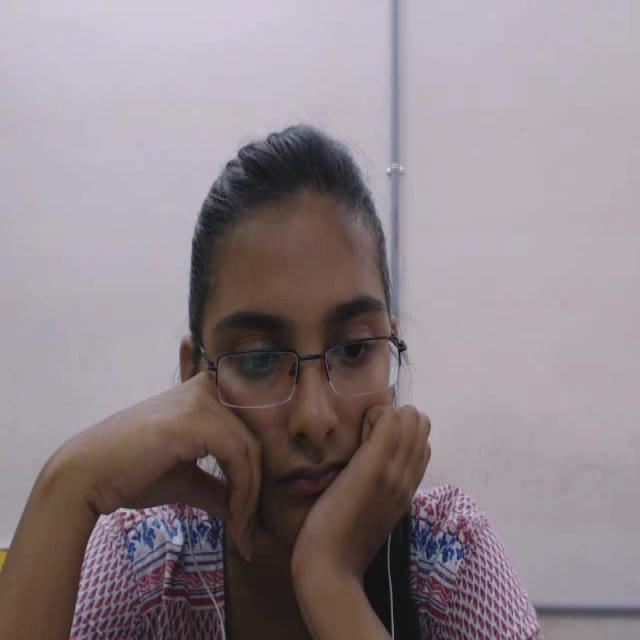Bored: (146, 92, 457, 560)
